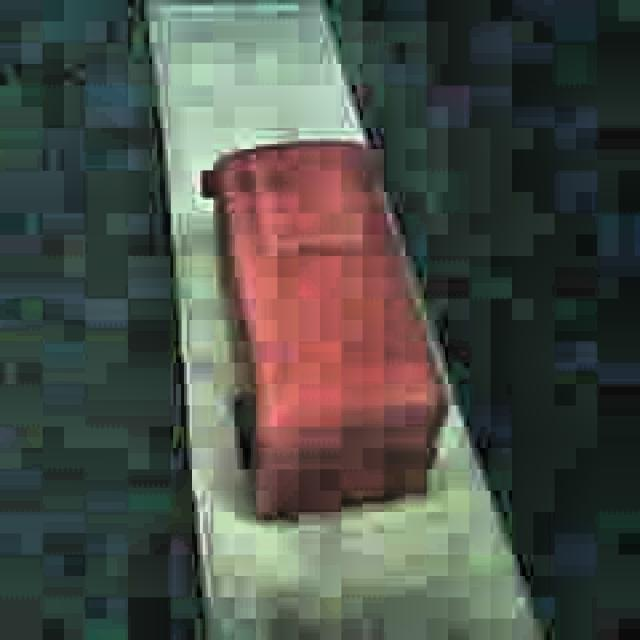bus: (195, 138, 449, 522)
